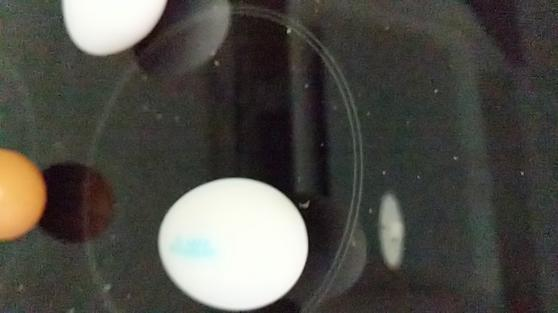egg: (157, 176, 310, 312), (61, 1, 177, 59), (1, 150, 50, 247)
